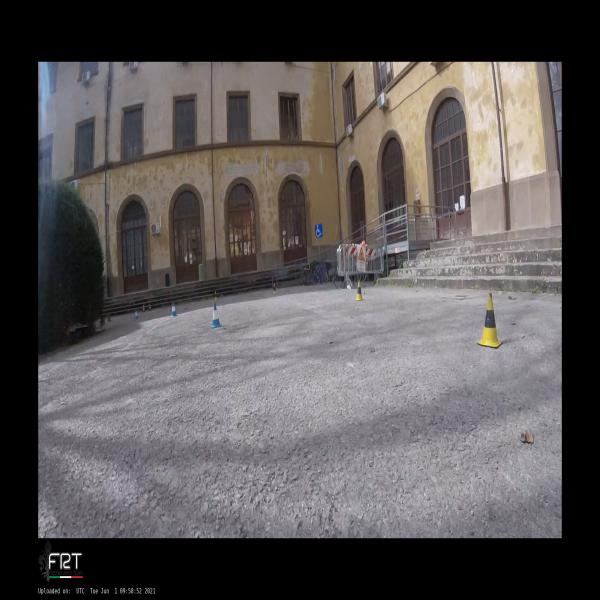blue_cone: (211, 302, 222, 328), (172, 302, 178, 317), (134, 309, 140, 320)
large_orange_cone: (148, 303, 152, 311), (142, 304, 145, 312)
yellow_cone: (477, 294, 502, 348), (355, 280, 364, 300), (273, 284, 277, 294), (214, 291, 218, 300)
